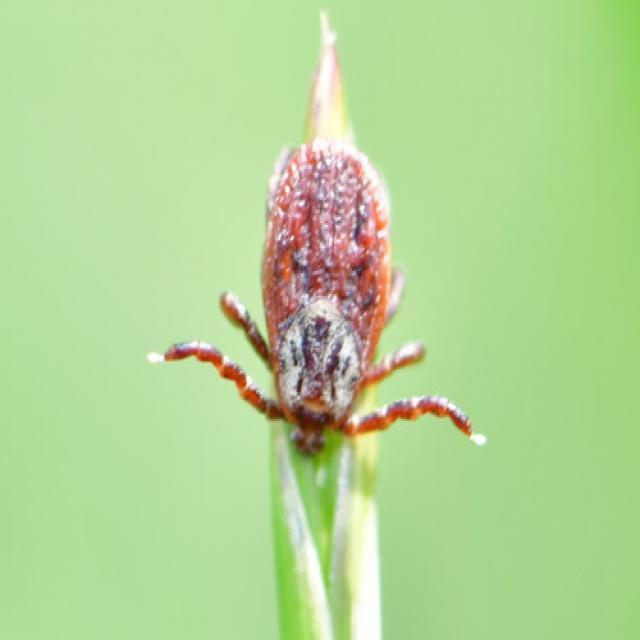Dermacentor Reticulatus-F: (146, 136, 484, 457)
